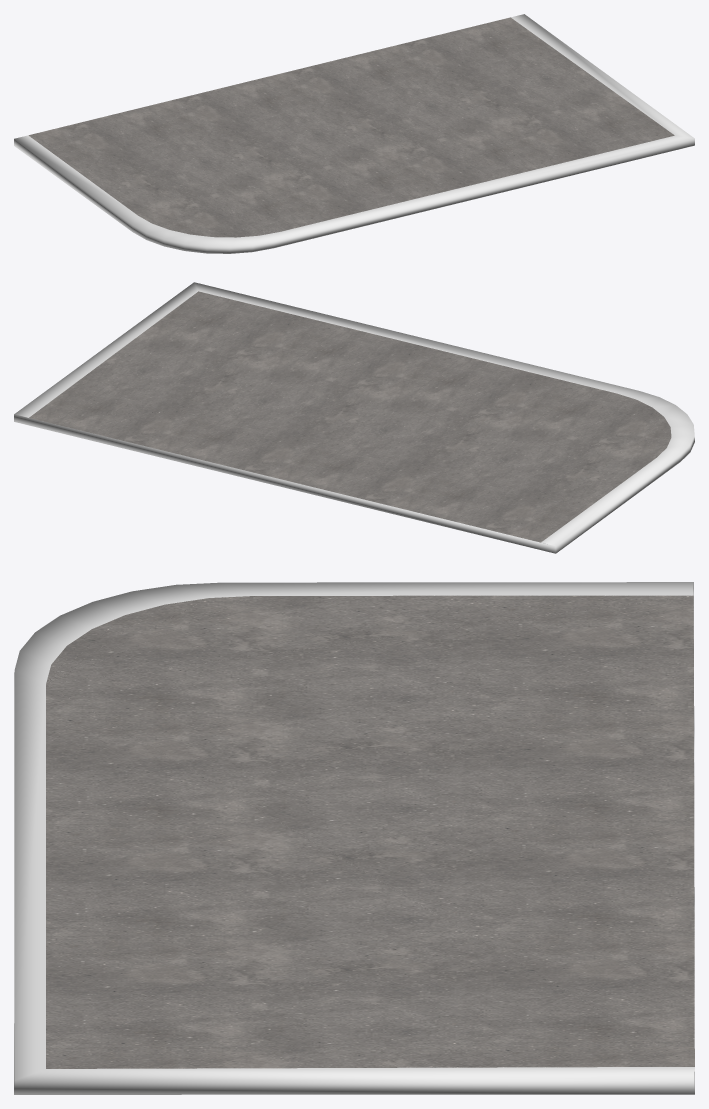
File: vereda1.glb
The picture shows the model from 3 angles, top to bottom: view 1: azimuth 30°, elevation 25°; view 2: azimuth 150°, elevation 25°; view 3: azimuth 270°, elevation 25°; orthographic projection. The views are drawn at different scales.
Parts seen in each view (by area): view 1: curb.018; view 2: curb.018; view 3: curb.018.
Part boxes in pixels (box(x1,y1,x2,y2)): curb.018: box(14, 14, 694, 253); curb.018: box(14, 282, 694, 553); curb.018: box(14, 582, 694, 1094).
Bounding box in the file's own units: 188 × 2.5 × 109.
2 materials, 1 textured.
